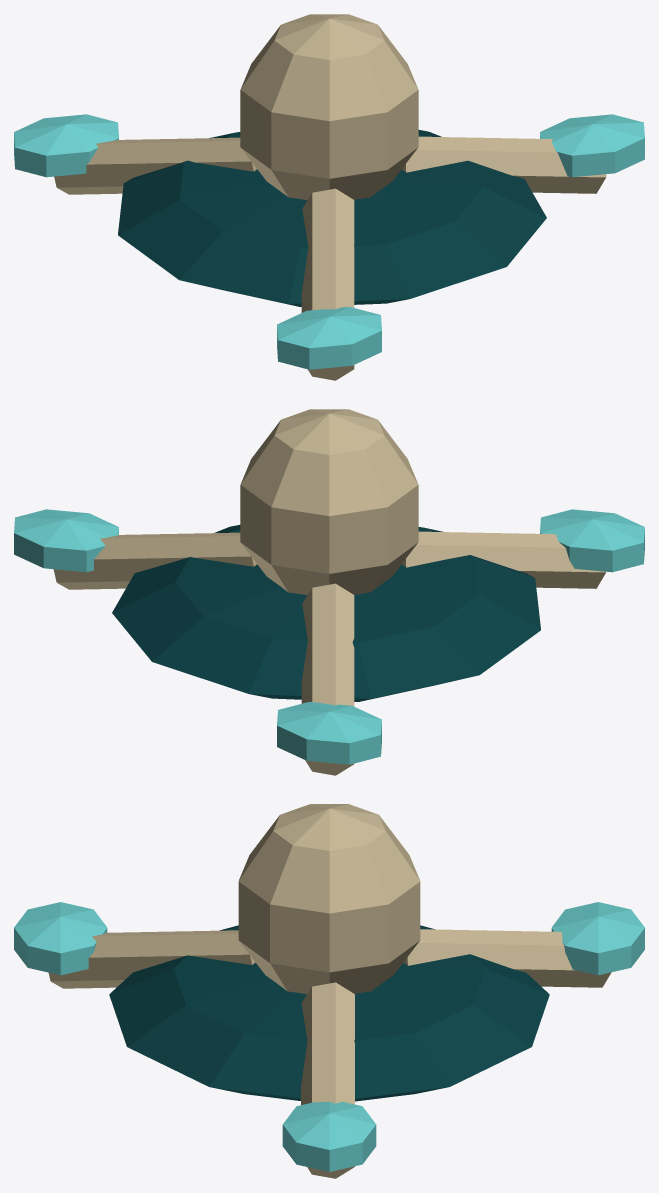
Rendered from service_maintenance_organ_a.obj.
3 views of the same model, one above another, from view 1: azimuth 30°, elevation 25°; view 2: azimuth 150°, elevation 25°; view 3: azimuth 270°, elevation 25° (orthographic). The views are drawn at different scales.
Visible parts, largest first — view 1: base, enzyme_vault, repair_arm_1, repair_arm_2, repair_arm_0, enzyme_pad_1, enzyme_pad_0, enzyme_pad_2; view 2: base, enzyme_vault, repair_arm_2, repair_arm_1, repair_arm_0, enzyme_pad_2, enzyme_pad_0, enzyme_pad_1; view 3: base, enzyme_vault, repair_arm_2, repair_arm_1, repair_arm_0, enzyme_pad_0, enzyme_pad_1, enzyme_pad_2.
Part boxes in pixels (x1=…): base: x1=118, y1=130, x2=546, y2=306; enzyme_vault: x1=240, y1=14, x2=418, y2=200; repair_arm_1: x1=301, y1=188, x2=354, y2=380; repair_arm_2: x1=54, y1=137, x2=256, y2=194; repair_arm_0: x1=402, y1=136, x2=606, y2=193; enzyme_pad_1: x1=277, y1=307, x2=381, y2=369; enzyme_pad_0: x1=540, y1=114, x2=644, y2=177; enzyme_pad_2: x1=14, y1=114, x2=118, y2=177; base: x1=112, y1=525, x2=540, y2=701; enzyme_vault: x1=240, y1=409, x2=418, y2=594; repair_arm_2: x1=301, y1=583, x2=354, y2=775; repair_arm_1: x1=402, y1=531, x2=606, y2=588; repair_arm_0: x1=53, y1=532, x2=256, y2=589; enzyme_pad_2: x1=277, y1=702, x2=381, y2=764; enzyme_pad_0: x1=14, y1=509, x2=118, y2=572; enzyme_pad_1: x1=540, y1=509, x2=644, y2=572; base: x1=109, y1=925, x2=549, y2=1101; enzyme_vault: x1=238, y1=804, x2=420, y2=994; repair_arm_2: x1=403, y1=929, x2=611, y2=987; repair_arm_1: x1=48, y1=930, x2=255, y2=988; repair_arm_0: x1=301, y1=982, x2=354, y2=1178; enzyme_pad_0: x1=282, y1=1101, x2=376, y2=1171; enzyme_pad_1: x1=14, y1=902, x2=107, y2=975; enzyme_pad_2: x1=551, y1=902, x2=644, y2=975.
Size of the model in its own units: 4.35 by 1.98 by 4.68.
